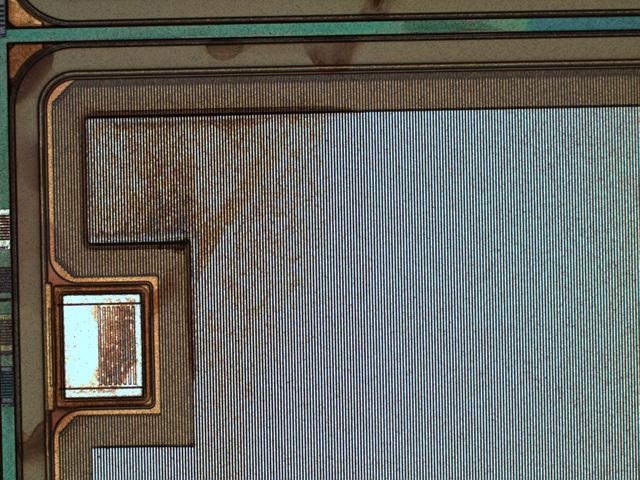SEZ BURNT: (1, 1, 397, 480)
